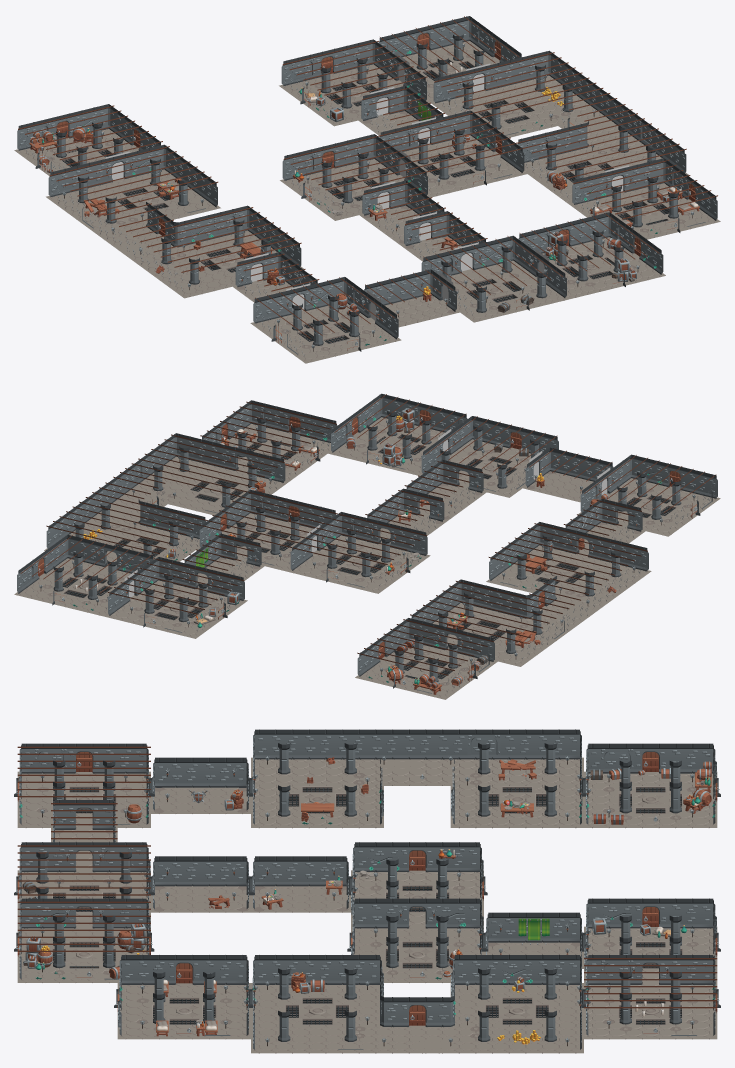
Rendered from level42.glb.
The picture shows the model from 3 angles, top to bottom: view 1: azimuth 30°, elevation 25°; view 2: azimuth 150°, elevation 25°; view 3: azimuth 270°, elevation 25°; orthographic projection. The views are drawn at different scales.
Visible parts, largest first — view 1: floor_tile_extralarge_grates (×12), wall_arched.003 (×2), wall.016, wall.027, wall_cracked.006, wall_cracked.002, wall_cracked.005, wall.042, wall.020, wall.025, wall_arched.008, wall_doorway.011; view 2: floor_tile_extralarge_grates (×12), wall.025, wall.018, wall.032, wall_cracked.001, wall.024, wall_doorway.015, wall.033, wall.040, wall_cracked.003, wall.023, wall.027 (+2 smaller); view 3: floor_tile_extralarge_grates (×13), wall.018 (×4), wall.019 (×4), wall_doorway.011 (×2), wall_cracked.003 (×2), wall.025 (×2), wall.048, wall.051, wall.047, wall.049, wall.045, wall_doorway.019 (+37 smaller).
Part boxes in pixels (bbox=[...]): floor_tile_extralarge_grates (×12): bbox=[109, 56, 682, 347]; wall_arched.003 (×2): bbox=[291, 53, 317, 178]; wall.016: bbox=[397, 271, 421, 301]; wall.027: bbox=[263, 290, 287, 321]; wall_cracked.006: bbox=[479, 238, 504, 268]; wall_cracked.002: bbox=[582, 172, 606, 202]; wall_cracked.005: bbox=[189, 213, 214, 244]; wall.042: bbox=[491, 59, 516, 89]; wall.020: bbox=[575, 214, 600, 244]; wall.025: bbox=[435, 18, 460, 48]; wall_arched.008: bbox=[526, 131, 551, 161]; wall_doorway.011: bbox=[411, 24, 436, 54]; floor_tile_extralarge_grates (×12): bbox=[50, 432, 684, 682]; wall.025: bbox=[685, 468, 708, 496]; wall.018: bbox=[558, 450, 581, 478]; wall.032: bbox=[481, 418, 504, 446]; wall_cracked.001: bbox=[305, 413, 328, 442]; wall.024: bbox=[395, 525, 418, 552]; wall_doorway.015: bbox=[503, 423, 526, 449]; wall.033: bbox=[492, 587, 515, 615]; wall.040: bbox=[207, 441, 230, 469]; wall_cracked.003: bbox=[640, 457, 663, 485]; wall.023: bbox=[462, 631, 485, 657]; wall.027: bbox=[76, 537, 99, 565]; floor_tile_extralarge_grates (×13): bbox=[51, 786, 683, 1025]; wall.018 (×4): bbox=[167, 757, 533, 942]; wall.019 (×4): bbox=[201, 757, 567, 942]; wall_doorway.011 (×2): bbox=[400, 842, 667, 928]; wall_cracked.003 (×2): bbox=[367, 842, 633, 928]; wall.025 (×2): bbox=[434, 842, 700, 928]; wall.048: bbox=[400, 729, 433, 759]; wall.051: bbox=[500, 729, 533, 759]; wall.047: bbox=[367, 729, 400, 759]; wall.049: bbox=[434, 729, 467, 759]; wall.045: bbox=[301, 729, 334, 759]; wall_doorway.019: bbox=[400, 997, 433, 1026].
Size of the model in its own units: 84 by 4.98 by 84.86.
69 materials, 69 textured.
